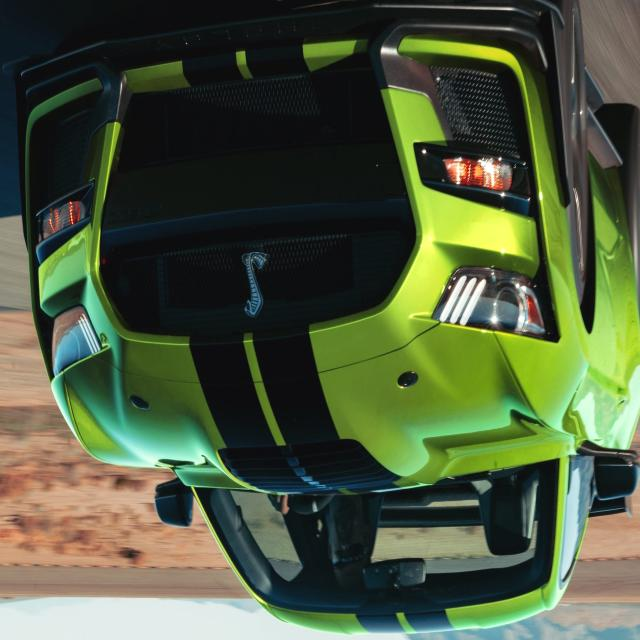green: (1, 0, 640, 632)
